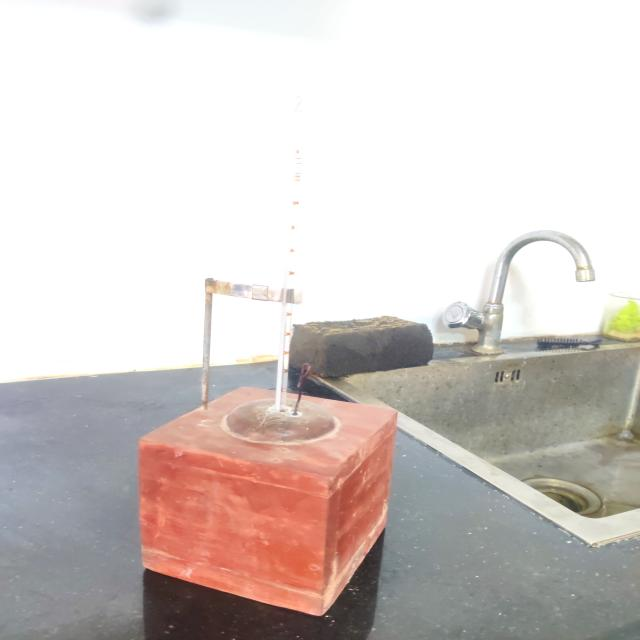Calorimeter: (132, 100, 404, 634)
